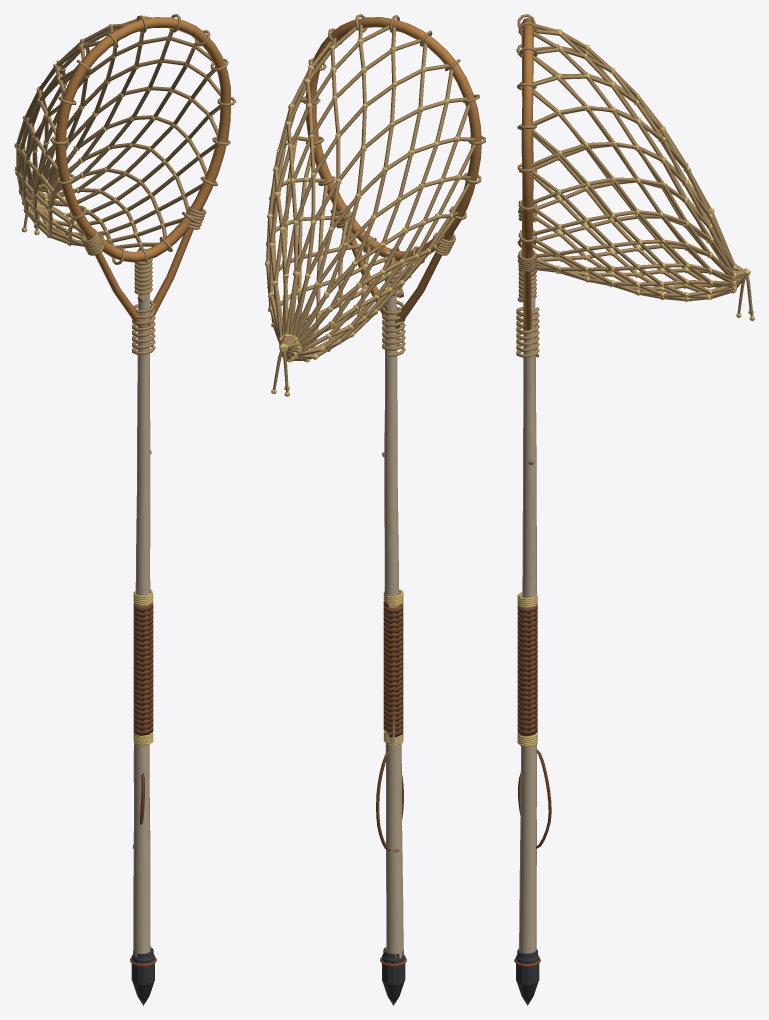
The model's file is tool_fishingnet.fbx.
3 views of the same model, side by side, from view 1: azimuth 30°, elevation 25°; view 2: azimuth 150°, elevation 25°; view 3: azimuth 270°, elevation 25° (orthographic).
Visible parts, largest first — view 1: Tool_FishingNet_NetCords, Tool_FishingNet_Pole, Tool_FishingNet_Hoop, Tool_FishingNet_GripWrap, Tool_FishingNet_Lashings, Tool_FishingNet_NetKnots, Tool_FishingNet_Braces, Tool_FishingNet_ButtIron; view 2: Tool_FishingNet_NetCords, Tool_FishingNet_Pole, Tool_FishingNet_Hoop, Tool_FishingNet_GripWrap, Tool_FishingNet_NetKnots, Tool_FishingNet_Lashings, Tool_FishingNet_ButtIron, Tool_FishingNet_Braces; view 3: Tool_FishingNet_NetCords, Tool_FishingNet_Pole, Tool_FishingNet_GripWrap, Tool_FishingNet_Hoop, Tool_FishingNet_NetKnots, Tool_FishingNet_Lashings, Tool_FishingNet_ButtIron, Tool_FishingNet_Braces.
Part boxes in pixels (x1,y1,x2,y2): Tool_FishingNet_NetCords: (16, 14, 236, 265); Tool_FishingNet_Pole: (132, 248, 151, 957); Tool_FishingNet_Hoop: (55, 17, 230, 262); Tool_FishingNet_GripWrap: (133, 589, 153, 824); Tool_FishingNet_Lashings: (81, 206, 206, 354); Tool_FishingNet_NetKnots: (14, 15, 212, 246); Tool_FishingNet_Braces: (84, 210, 201, 327); Tool_FishingNet_ButtIron: (130, 947, 156, 1005); Tool_FishingNet_NetCords: (266, 14, 485, 392); Tool_FishingNet_Pole: (382, 251, 403, 957); Tool_FishingNet_Hoop: (306, 17, 481, 261); Tool_FishingNet_GripWrap: (376, 589, 403, 850); Tool_FishingNet_NetKnots: (265, 39, 461, 396); Tool_FishingNet_Lashings: (330, 205, 455, 356); Tool_FishingNet_ButtIron: (380, 947, 406, 1005); Tool_FishingNet_Braces: (336, 210, 452, 328); Tool_FishingNet_NetCords: (516, 14, 753, 316); Tool_FishingNet_Pole: (518, 271, 536, 953); Tool_FishingNet_GripWrap: (517, 592, 551, 848); Tool_FishingNet_Hoop: (521, 17, 533, 257); Tool_FishingNet_NetKnots: (523, 29, 754, 321); Tool_FishingNet_Lashings: (516, 201, 539, 357); Tool_FishingNet_ButtIron: (514, 948, 540, 1005); Tool_FishingNet_Braces: (523, 252, 531, 330).
Bounding box in the file's own units: 47.95 × 248 × 55.1.
